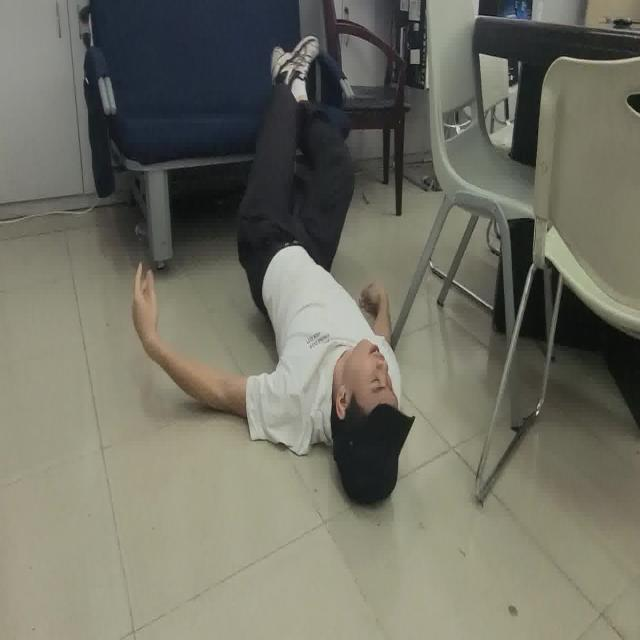fall: (128, 32, 414, 508)
